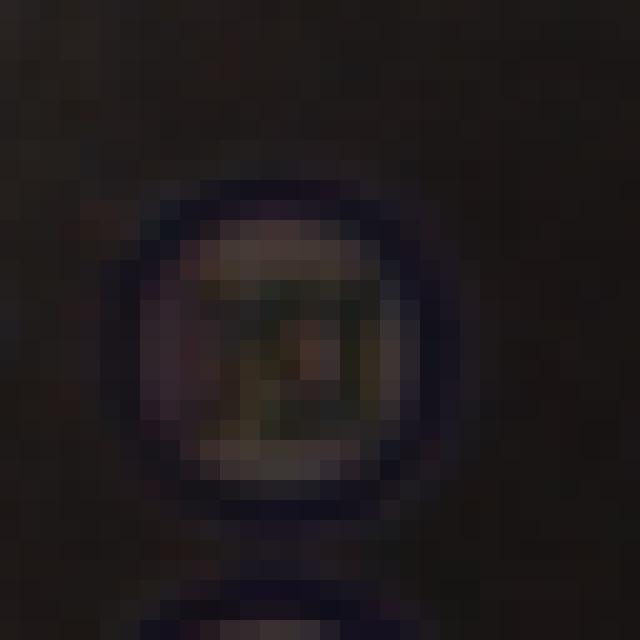SPEED LIMIT 120: (116, 189, 464, 520)
